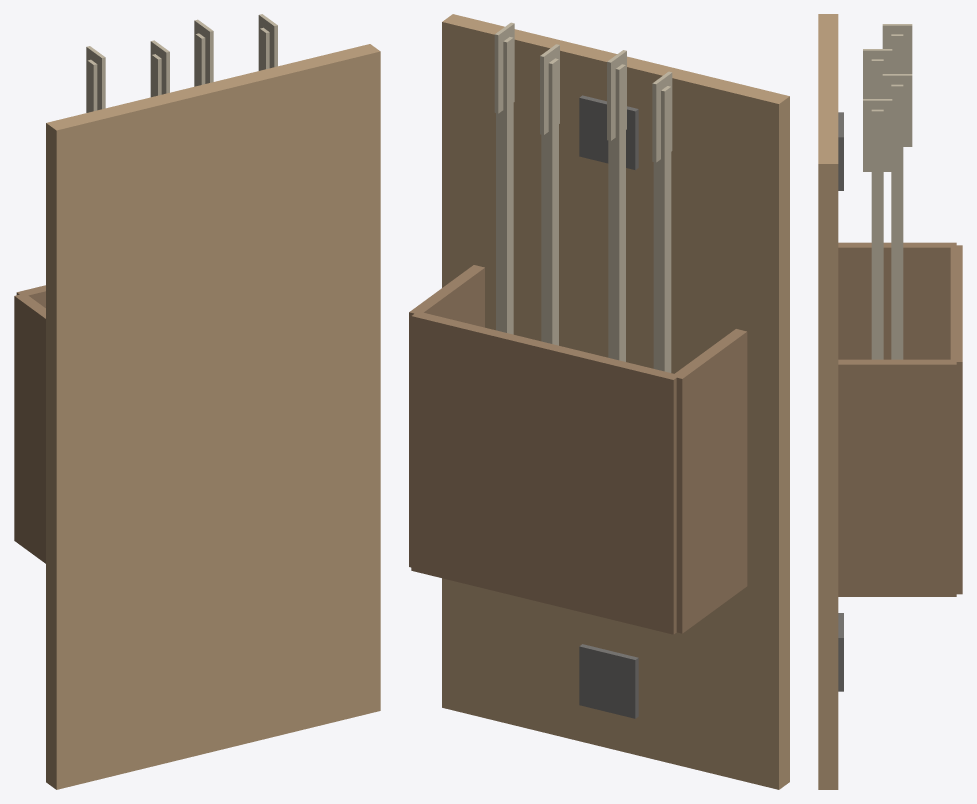
The model's file is prop-quiver-wall.fbx.
The picture shows the model from 3 angles, left to right: view 1: azimuth 30°, elevation 25°; view 2: azimuth 150°, elevation 25°; view 3: azimuth 270°, elevation 25°; orthographic projection. The views are drawn at different scales.
Visible parts, largest first — view 1: prop-quiver-wall; view 2: prop-quiver-wall; view 3: prop-quiver-wall.
Part boxes in pixels (left/top/right/bottom): prop-quiver-wall: left=14, top=14, right=380, bottom=789; prop-quiver-wall: left=409, top=14, right=789, bottom=789; prop-quiver-wall: left=818, top=14, right=962, bottom=789.
Bounding box in the file's own units: 0.36 × 0.73 × 0.146.
